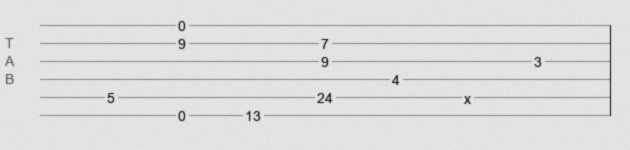0: (178, 18, 186, 28), (178, 108, 186, 118)
13: (245, 108, 261, 118)
24: (317, 90, 333, 100)
3: (534, 54, 542, 64)
4: (392, 72, 400, 82)
5: (107, 90, 115, 100)
7: (321, 36, 329, 46)
9: (178, 36, 186, 46), (321, 54, 329, 64)
x: (464, 91, 471, 99)
